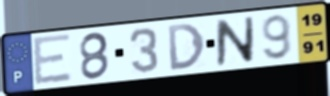3: (128, 26, 162, 76)
8: (78, 30, 111, 81)
9: (260, 12, 294, 61)
D: (165, 21, 207, 73)
E: (31, 32, 75, 88)
N: (214, 15, 256, 68)
